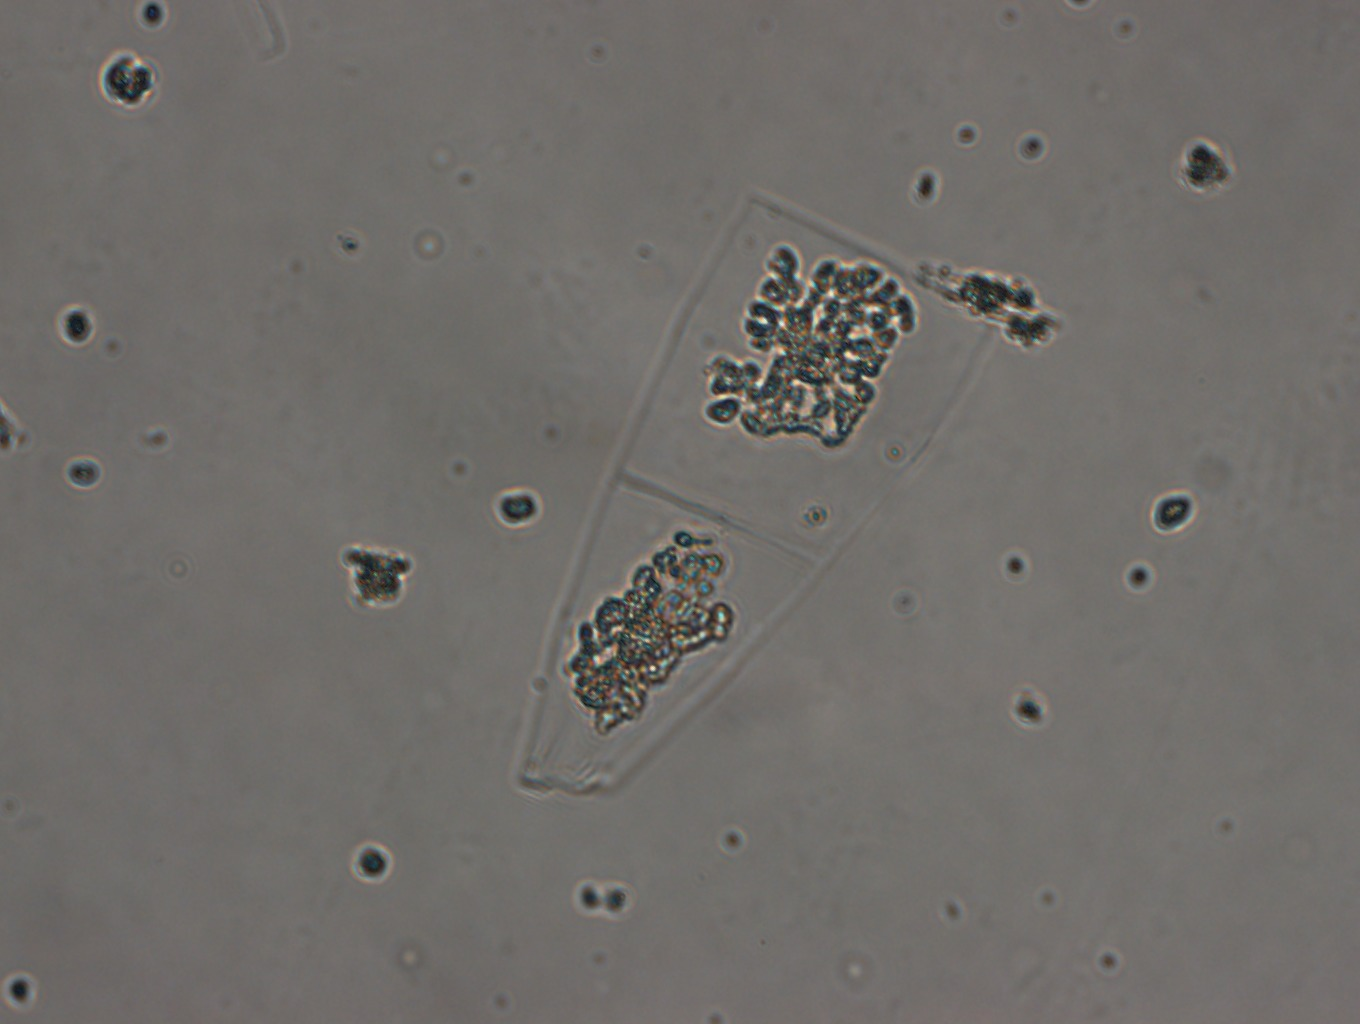helicotheca: (505, 191, 994, 796)
